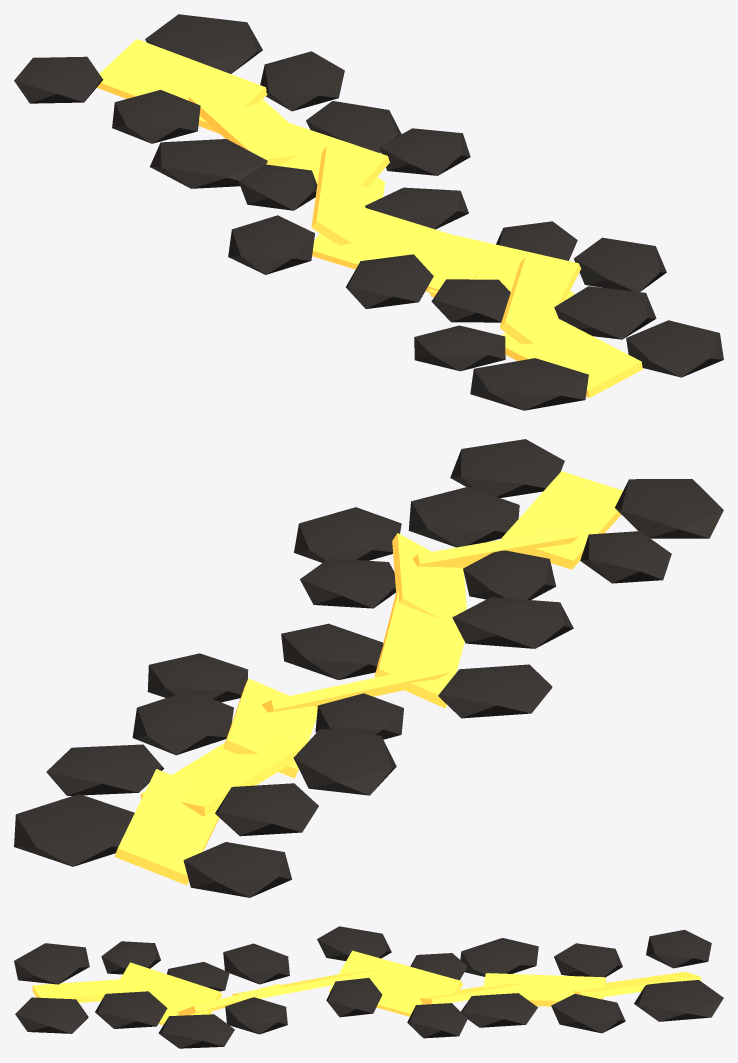
File: DM_LavaFissure.fbx
3 views of the same model, one above another, from view 1: azimuth 30°, elevation 25°; view 2: azimuth 150°, elevation 25°; view 3: azimuth 270°, elevation 25° (orthographic). The views are drawn at different scales.
Parts seen in each view (by area): view 1: DM_LavaFissure; view 2: DM_LavaFissure; view 3: DM_LavaFissure.
Boxes of the visible parts, bbox=[...] form: DM_LavaFissure: bbox=[14, 14, 723, 410]; DM_LavaFissure: bbox=[14, 439, 723, 897]; DM_LavaFissure: bbox=[14, 926, 723, 1048].
Bounding box in the file's own units: 1.59 × 0.2146 × 4.17.
